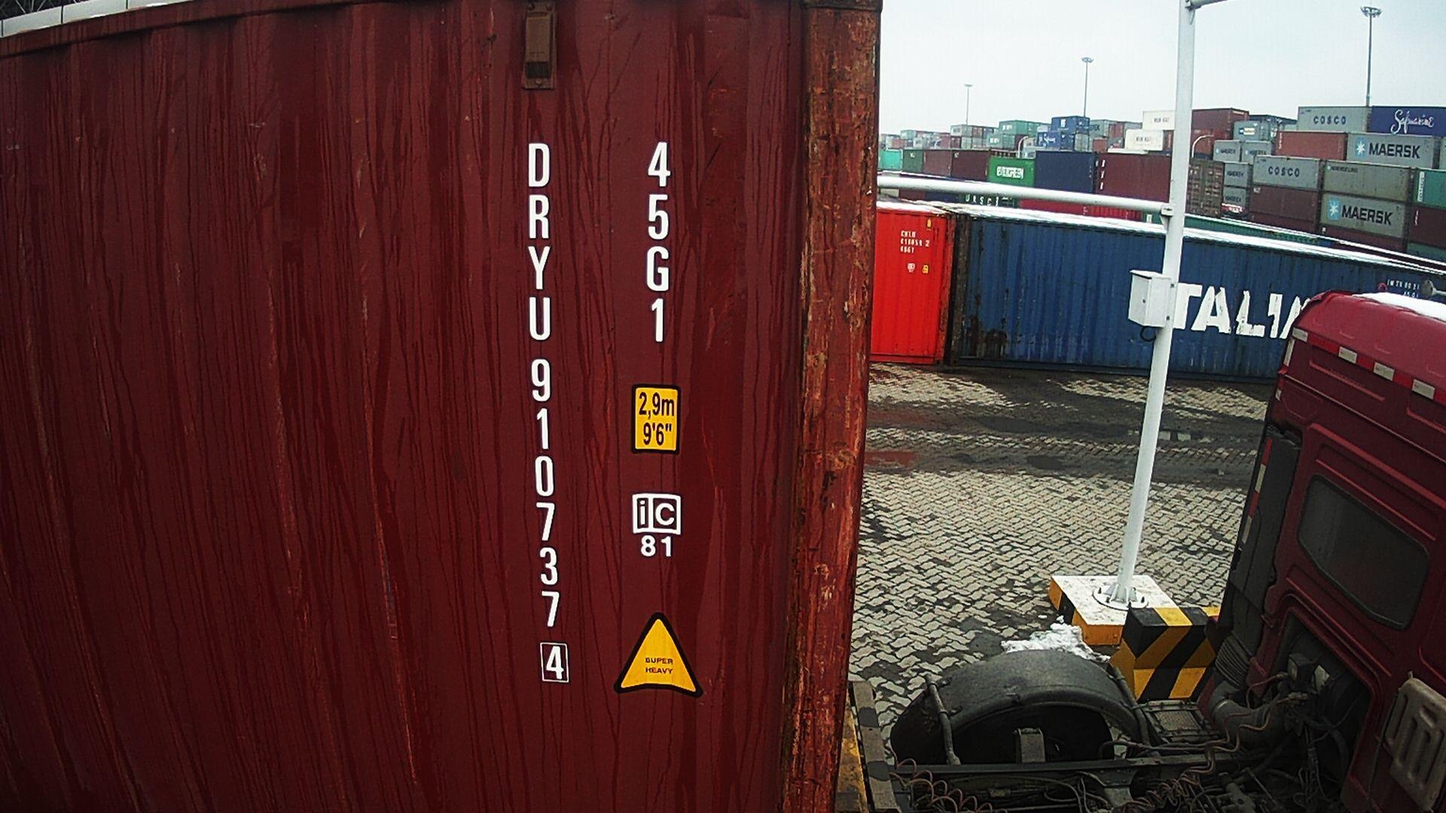container-numbers: (517, 135, 570, 690), (638, 138, 680, 352)
